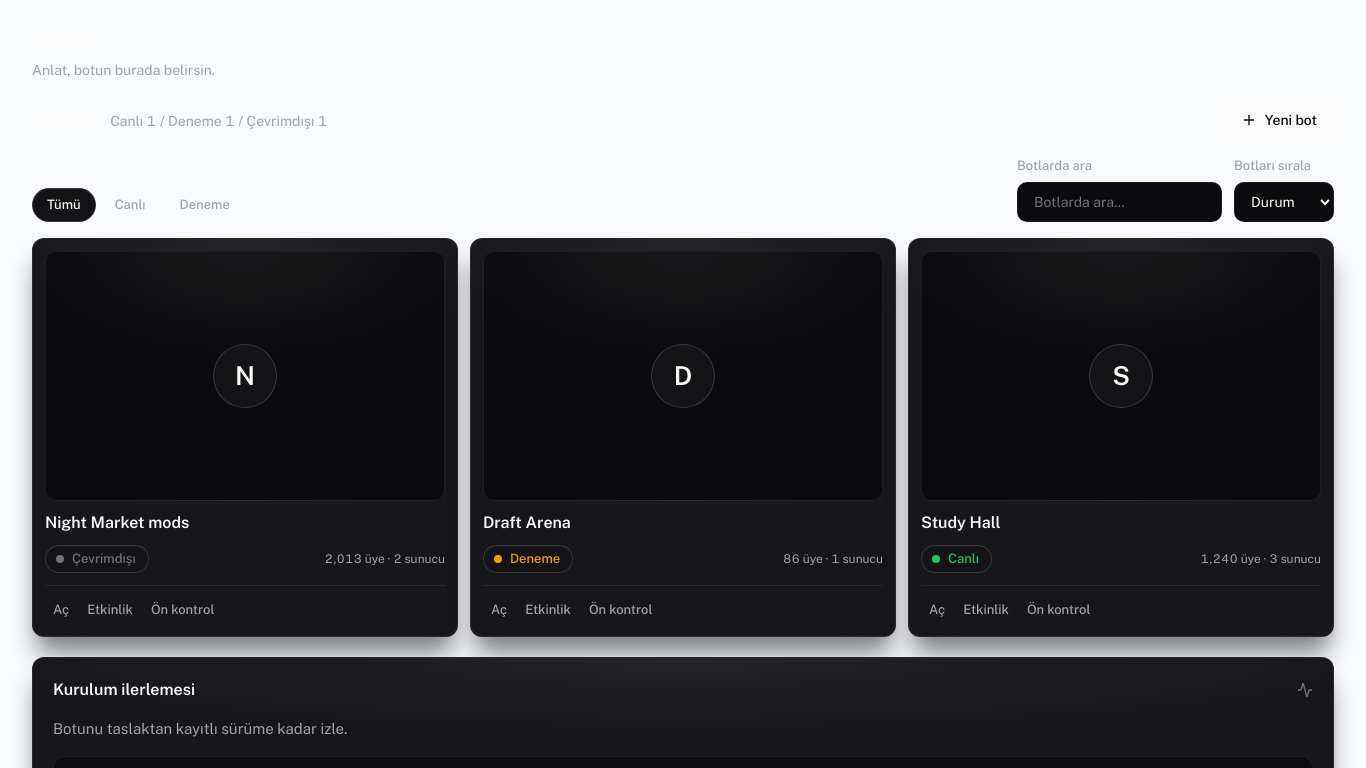
Scenario: dashboard filtering and sorting on the bots page › filter tabs narrow the bot cards by status
Click the button "Deneme" at (205, 205), box left=165, top=188, right=245, bottom=222
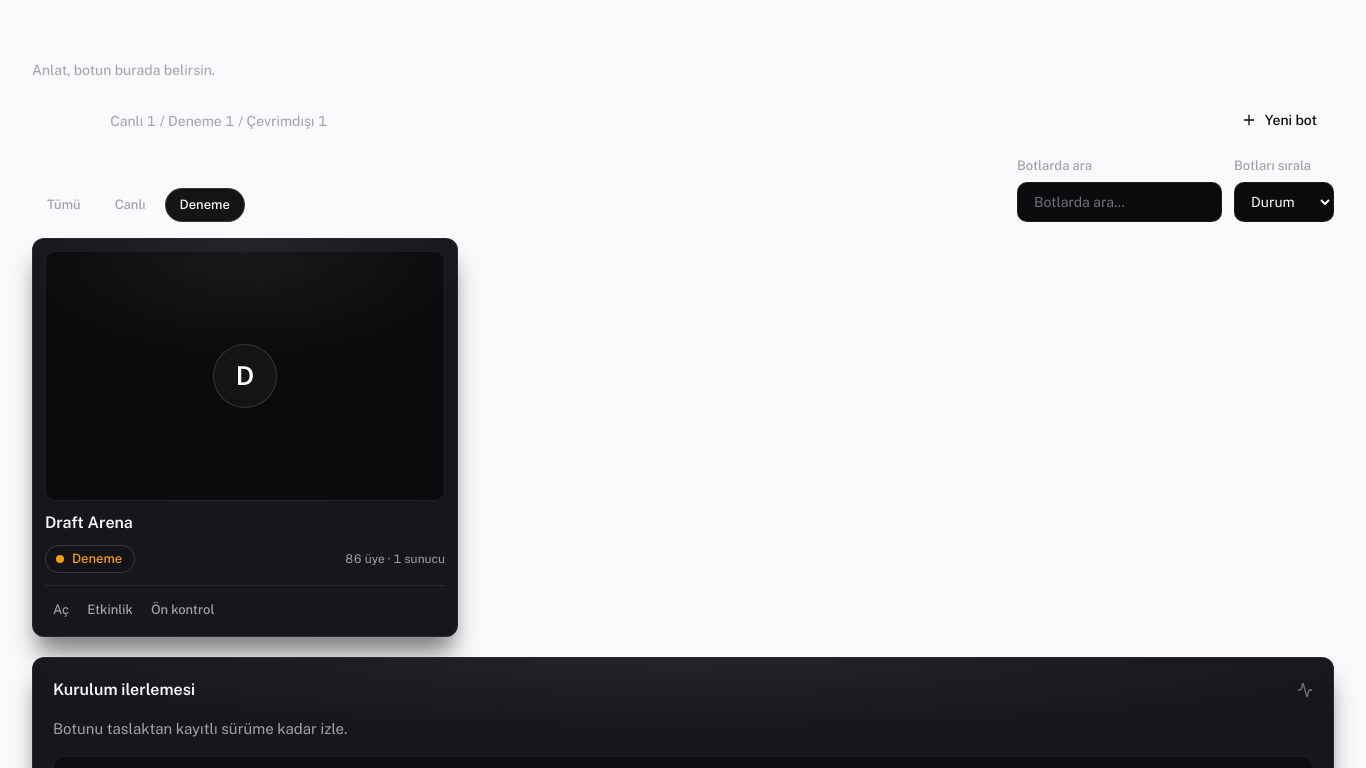
Expected: the link "D Draft Arena Deneme 86 üye · 1 sunucu" is shown, left=45, top=251, right=445, bottom=573
Expected: the link "Study Hall" is gone
Expected: the link "Night Market mods" is gone
Click the button "Canlı" at (130, 205), box left=100, top=188, right=161, bottom=222
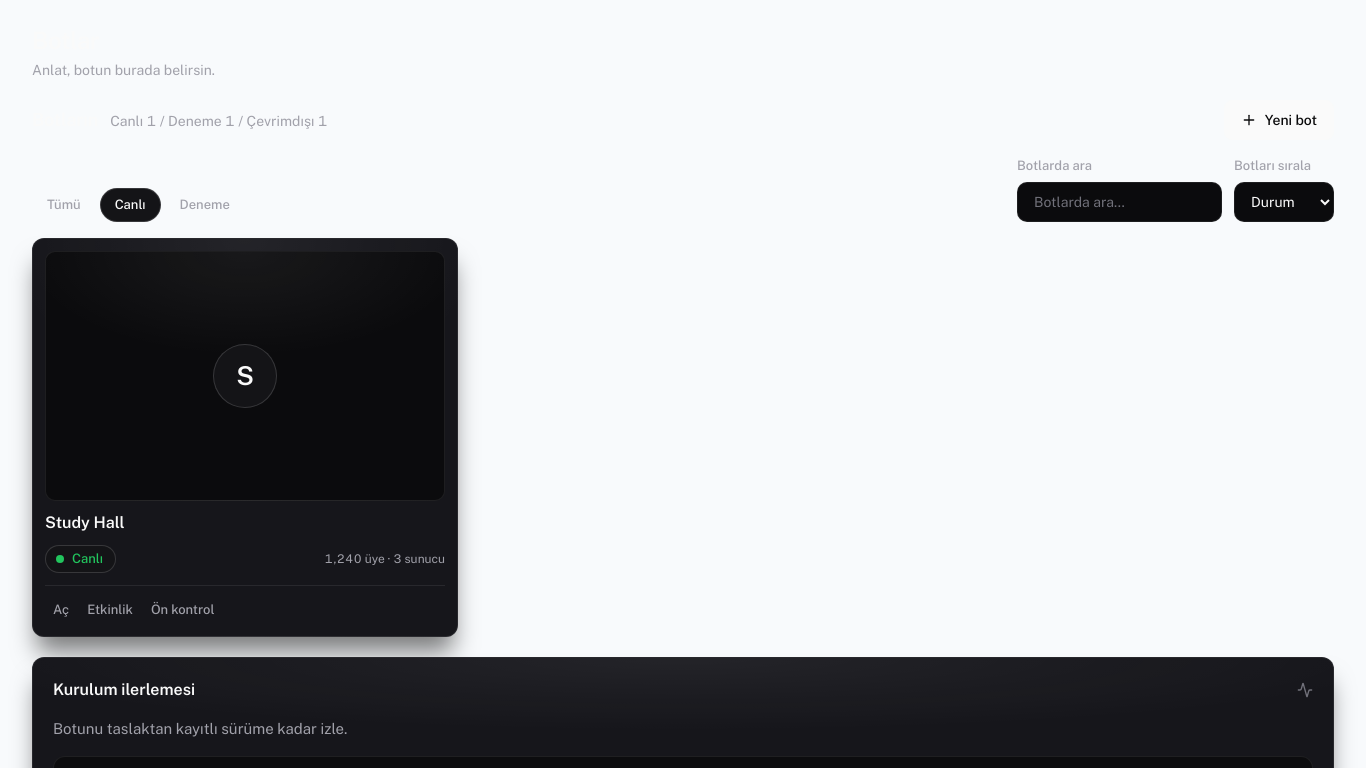
Expected: the link "S Study Hall Canlı 1,240 üye · 3 sunucu" is shown, left=45, top=251, right=445, bottom=573
Expected: the link "Draft Arena" is gone
